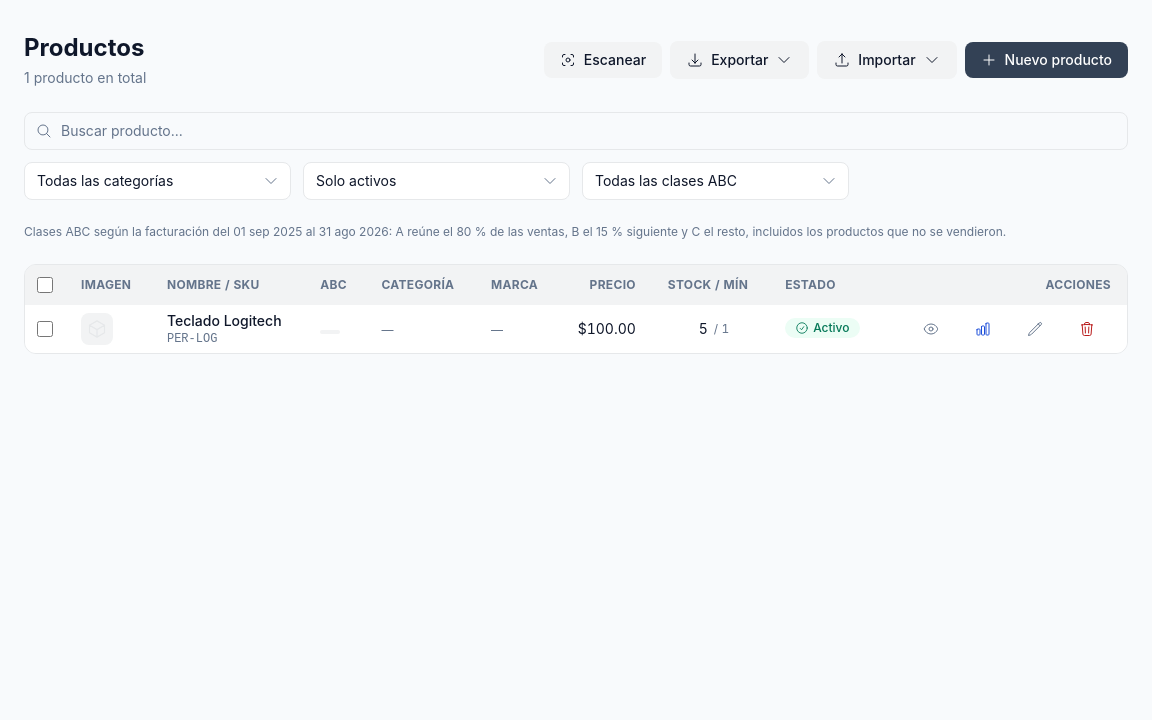
Test case: ProductsPage — hueco bajo el botón flotante (T3-09) › con un producto seleccionado aparecen el botón y el hueco a la vez
Click the checkbox named "Seleccionar Teclado Logitech": (45, 329) left=37, top=321, right=53, bottom=337
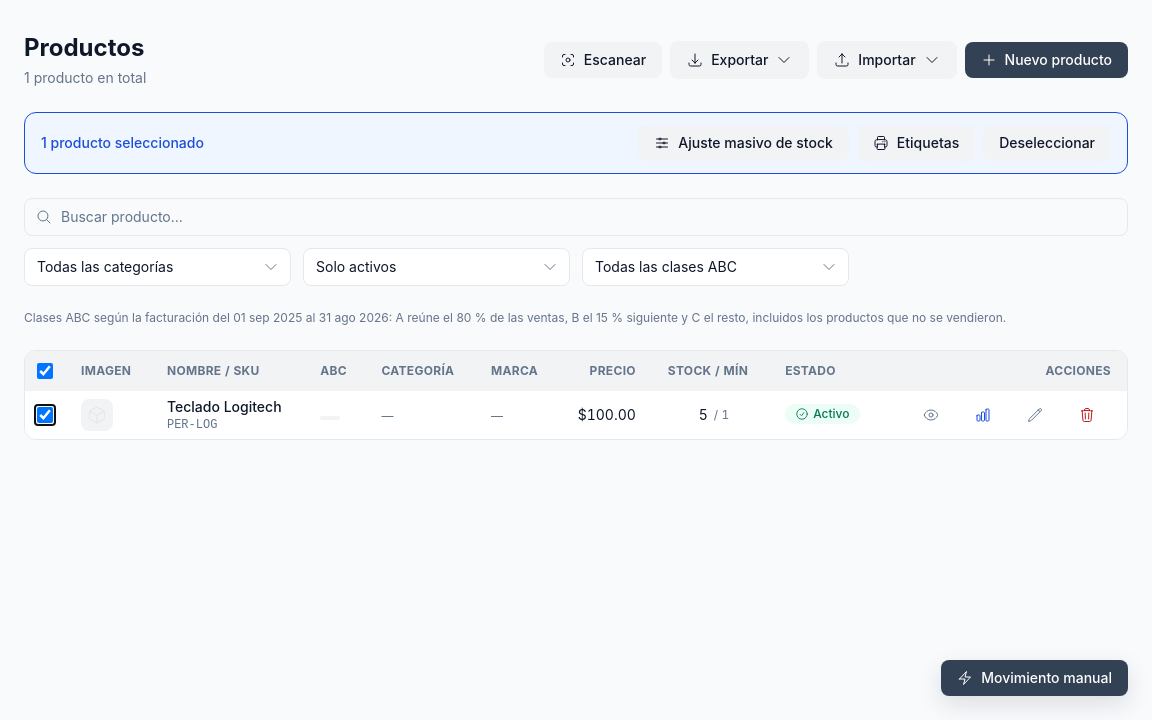
Expected: the button "Movimiento manual" is shown, left=941, top=660, right=1128, bottom=696
